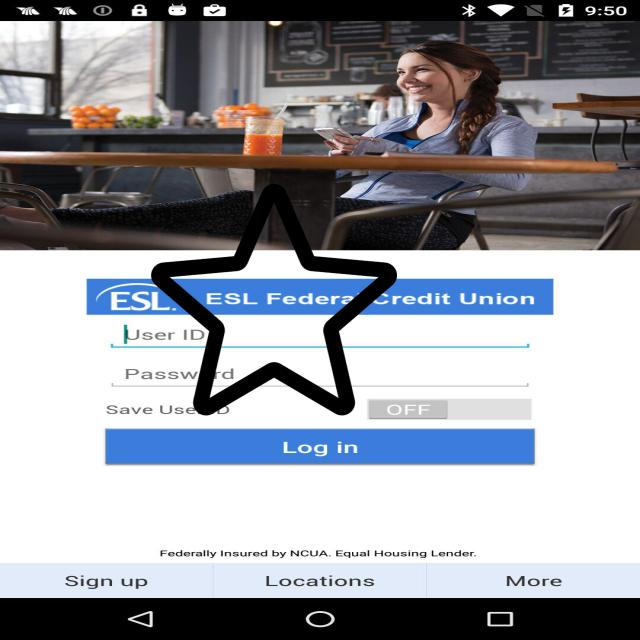forced continuity: (151, 179, 397, 420)
